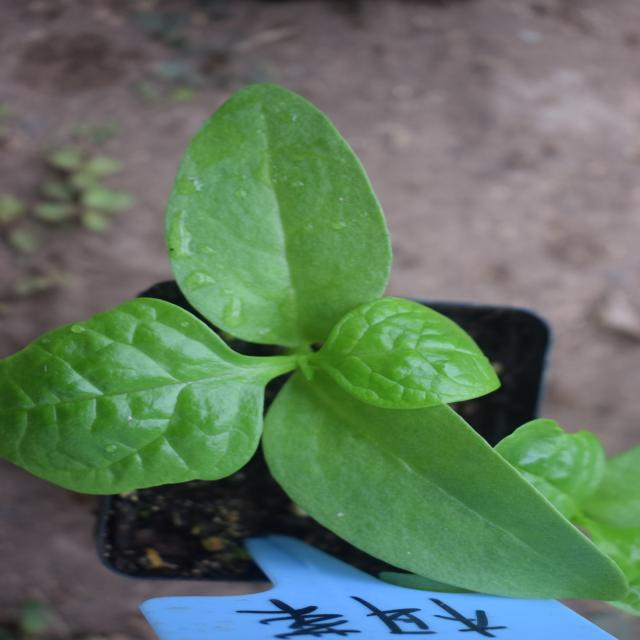Ceylon spinach: (117, 20, 603, 616)
